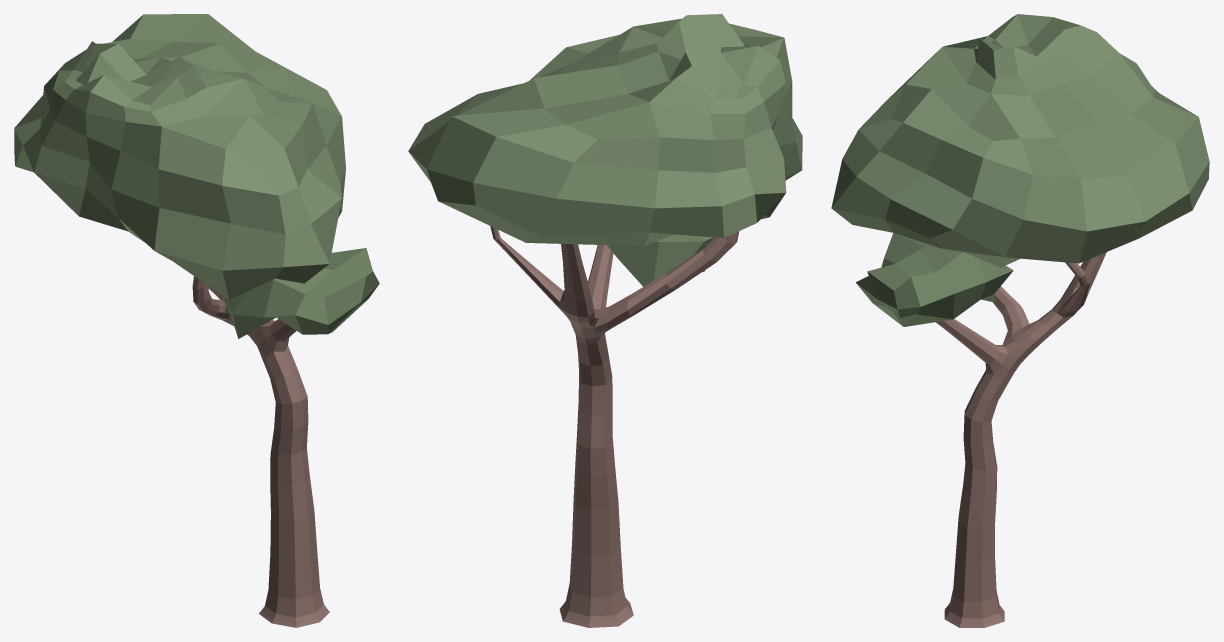
3 views of the same model, side by side, from view 1: azimuth 30°, elevation 25°; view 2: azimuth 150°, elevation 25°; view 3: azimuth 270°, elevation 25° (orthographic). The views are drawn at different scales.
Visible parts, largest first — view 1: Visual; view 2: Visual; view 3: Visual.
Part boxes in pixels (x1=…): Visual: x1=14, y1=14, x2=379, y2=627; Visual: x1=408, y1=14, x2=802, y2=627; Visual: x1=831, y1=14, x2=1209, y2=627.
Size of the model in its own units: 10.21 by 18 by 11.64.
